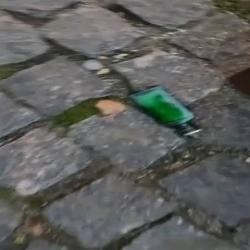Glas: (131, 85, 204, 138)
